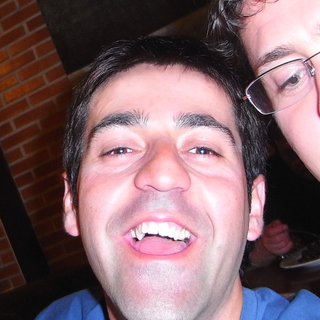eye: (271, 66, 310, 98), (179, 140, 226, 165), (94, 139, 140, 164)
